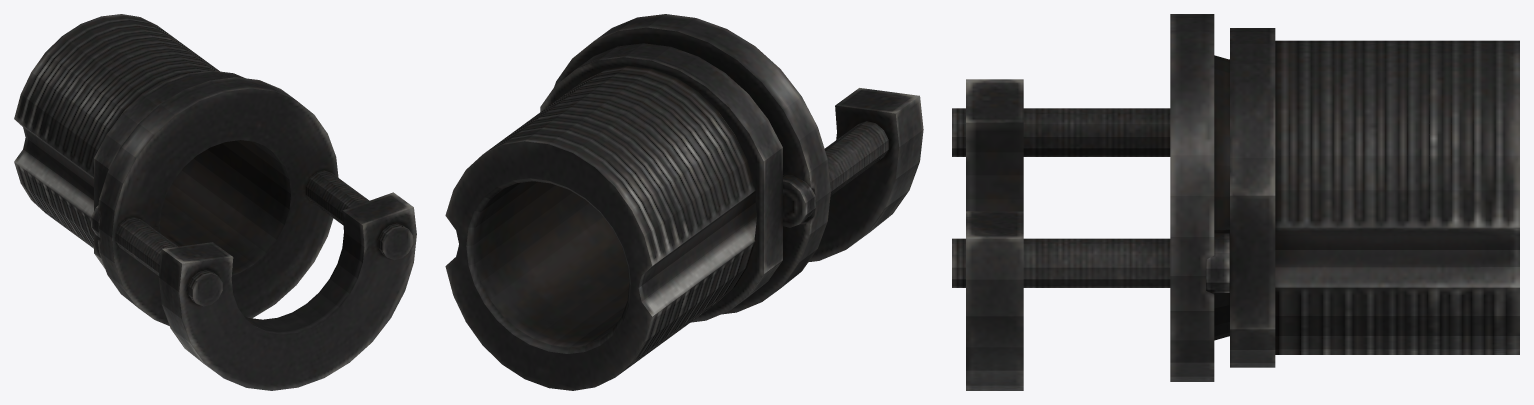
3 views of the same model, side by side, from view 1: azimuth 30°, elevation 25°; view 2: azimuth 150°, elevation 25°; view 3: azimuth 270°, elevation 25° (orthographic). The views are drawn at different scales.
Visible parts, largest first — view 1: TW_5cf67a1bd7f00c06585fb6f3_PZ_Import; view 2: TW_5cf67a1bd7f00c06585fb6f3_PZ_Import; view 3: TW_5cf67a1bd7f00c06585fb6f3_PZ_Import.
Part boxes in pixels (left/top/right/bottom): TW_5cf67a1bd7f00c06585fb6f3_PZ_Import: left=14, top=14, right=416, bottom=390; TW_5cf67a1bd7f00c06585fb6f3_PZ_Import: left=445, top=14, right=923, bottom=390; TW_5cf67a1bd7f00c06585fb6f3_PZ_Import: left=952, top=14, right=1519, bottom=390.
Bounding box in the file's own units: 0.0156 × 0.0229 × 0.0152.
Materials: 1 (1 with a texture image).
